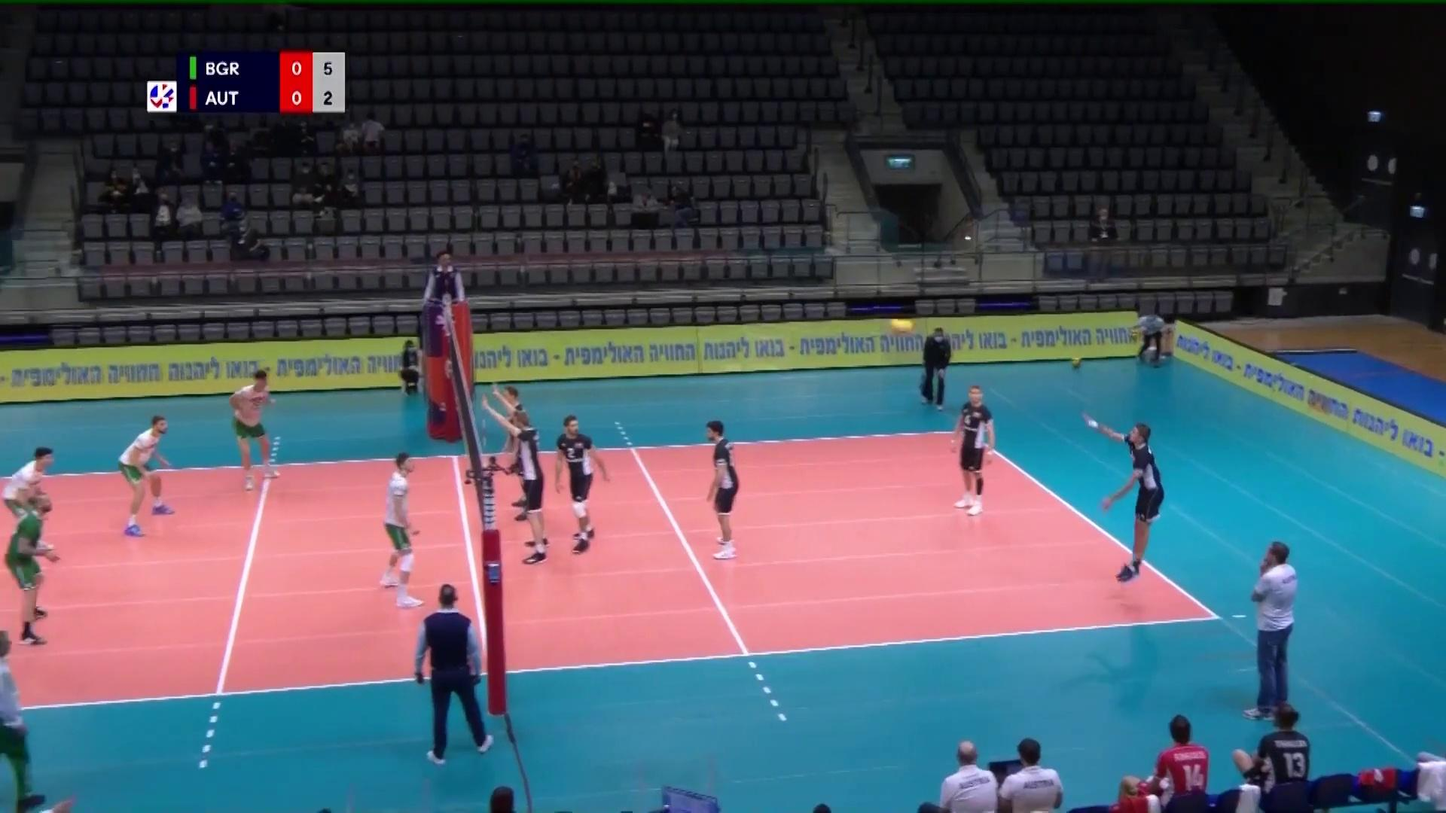ball: (891, 318, 915, 335)
